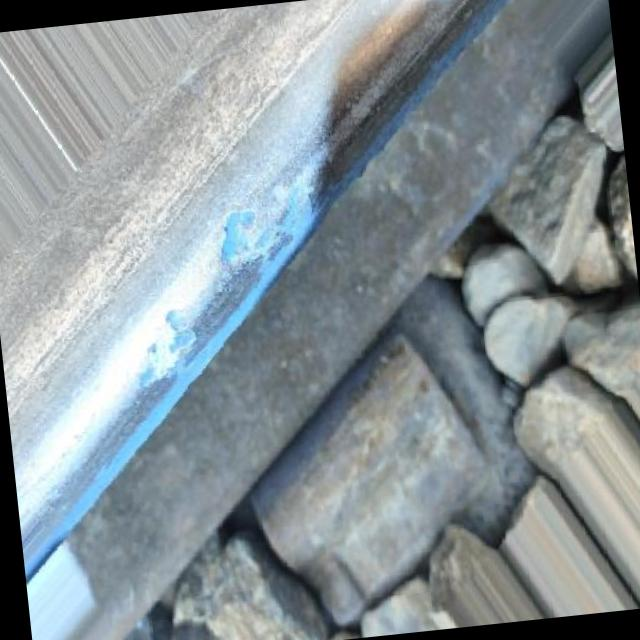defective: (0, 0, 451, 524)
